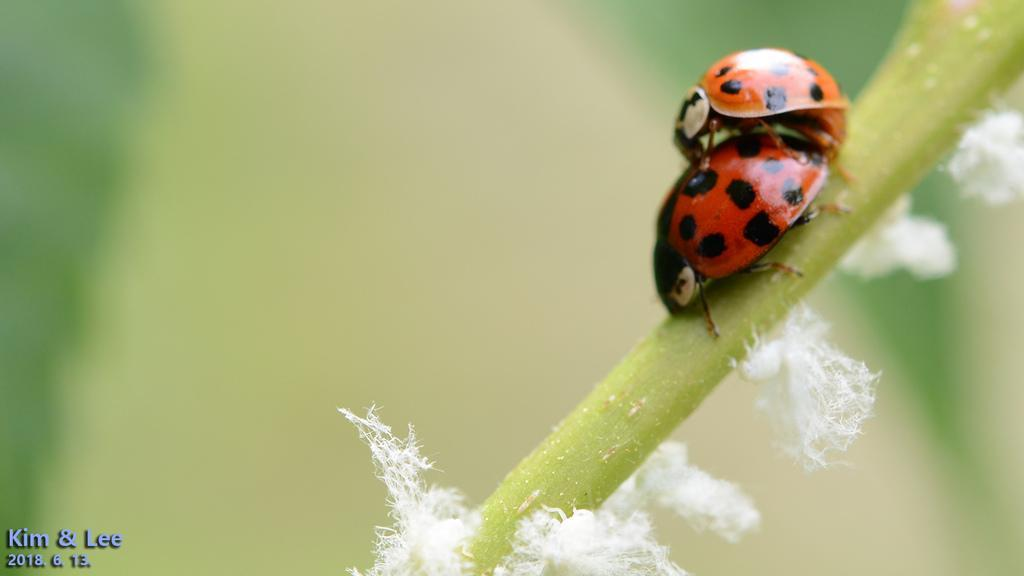ladybug: (651, 126, 844, 344), (673, 44, 854, 173)
